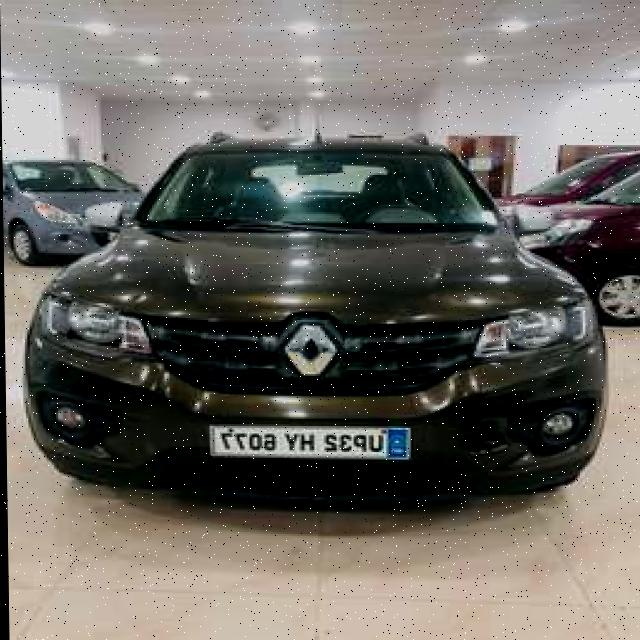plate: (203, 423, 412, 462)
